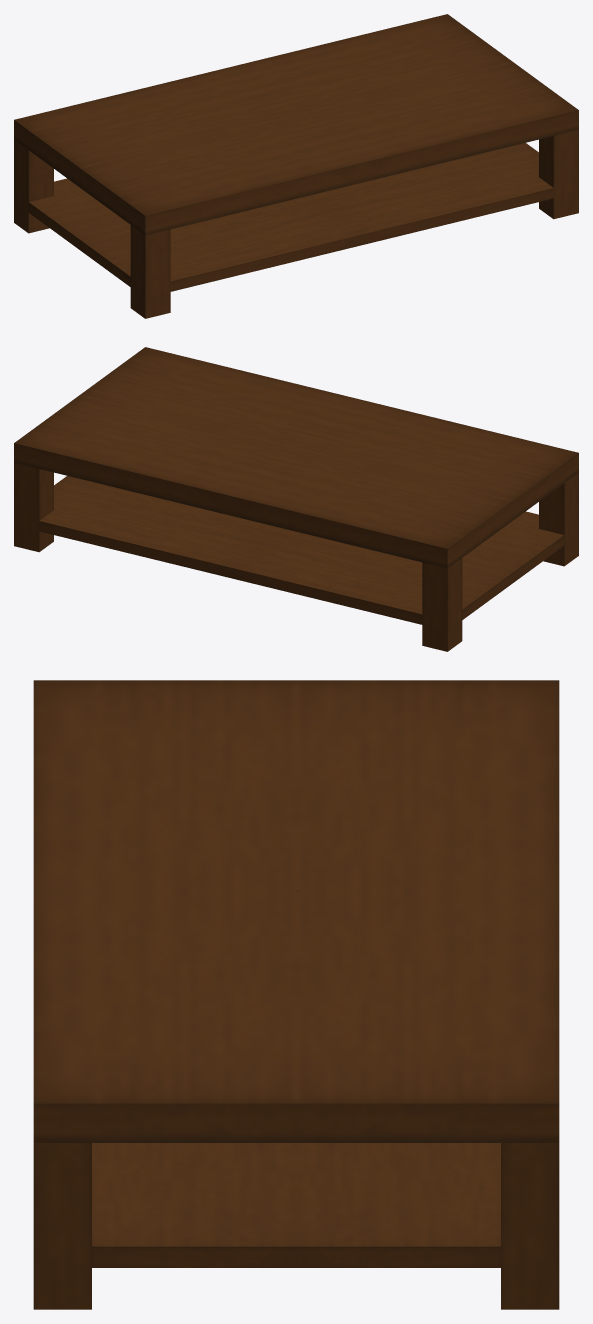
File: CoffeeTable.fbx
The picture shows the model from 3 angles, top to bottom: view 1: azimuth 30°, elevation 25°; view 2: azimuth 150°, elevation 25°; view 3: azimuth 270°, elevation 25°; orthographic projection. The views are drawn at different scales.
Visible parts, largest first — view 1: CoffeeTable; view 2: CoffeeTable; view 3: CoffeeTable.
Part boxes in pixels (left/top/right/bottom): CoffeeTable: left=14, top=14, right=578, bottom=318; CoffeeTable: left=14, top=347, right=578, bottom=651; CoffeeTable: left=33, top=680, right=559, bottom=1309.
Size of the model in its own units: 498 by 262 by 113.
